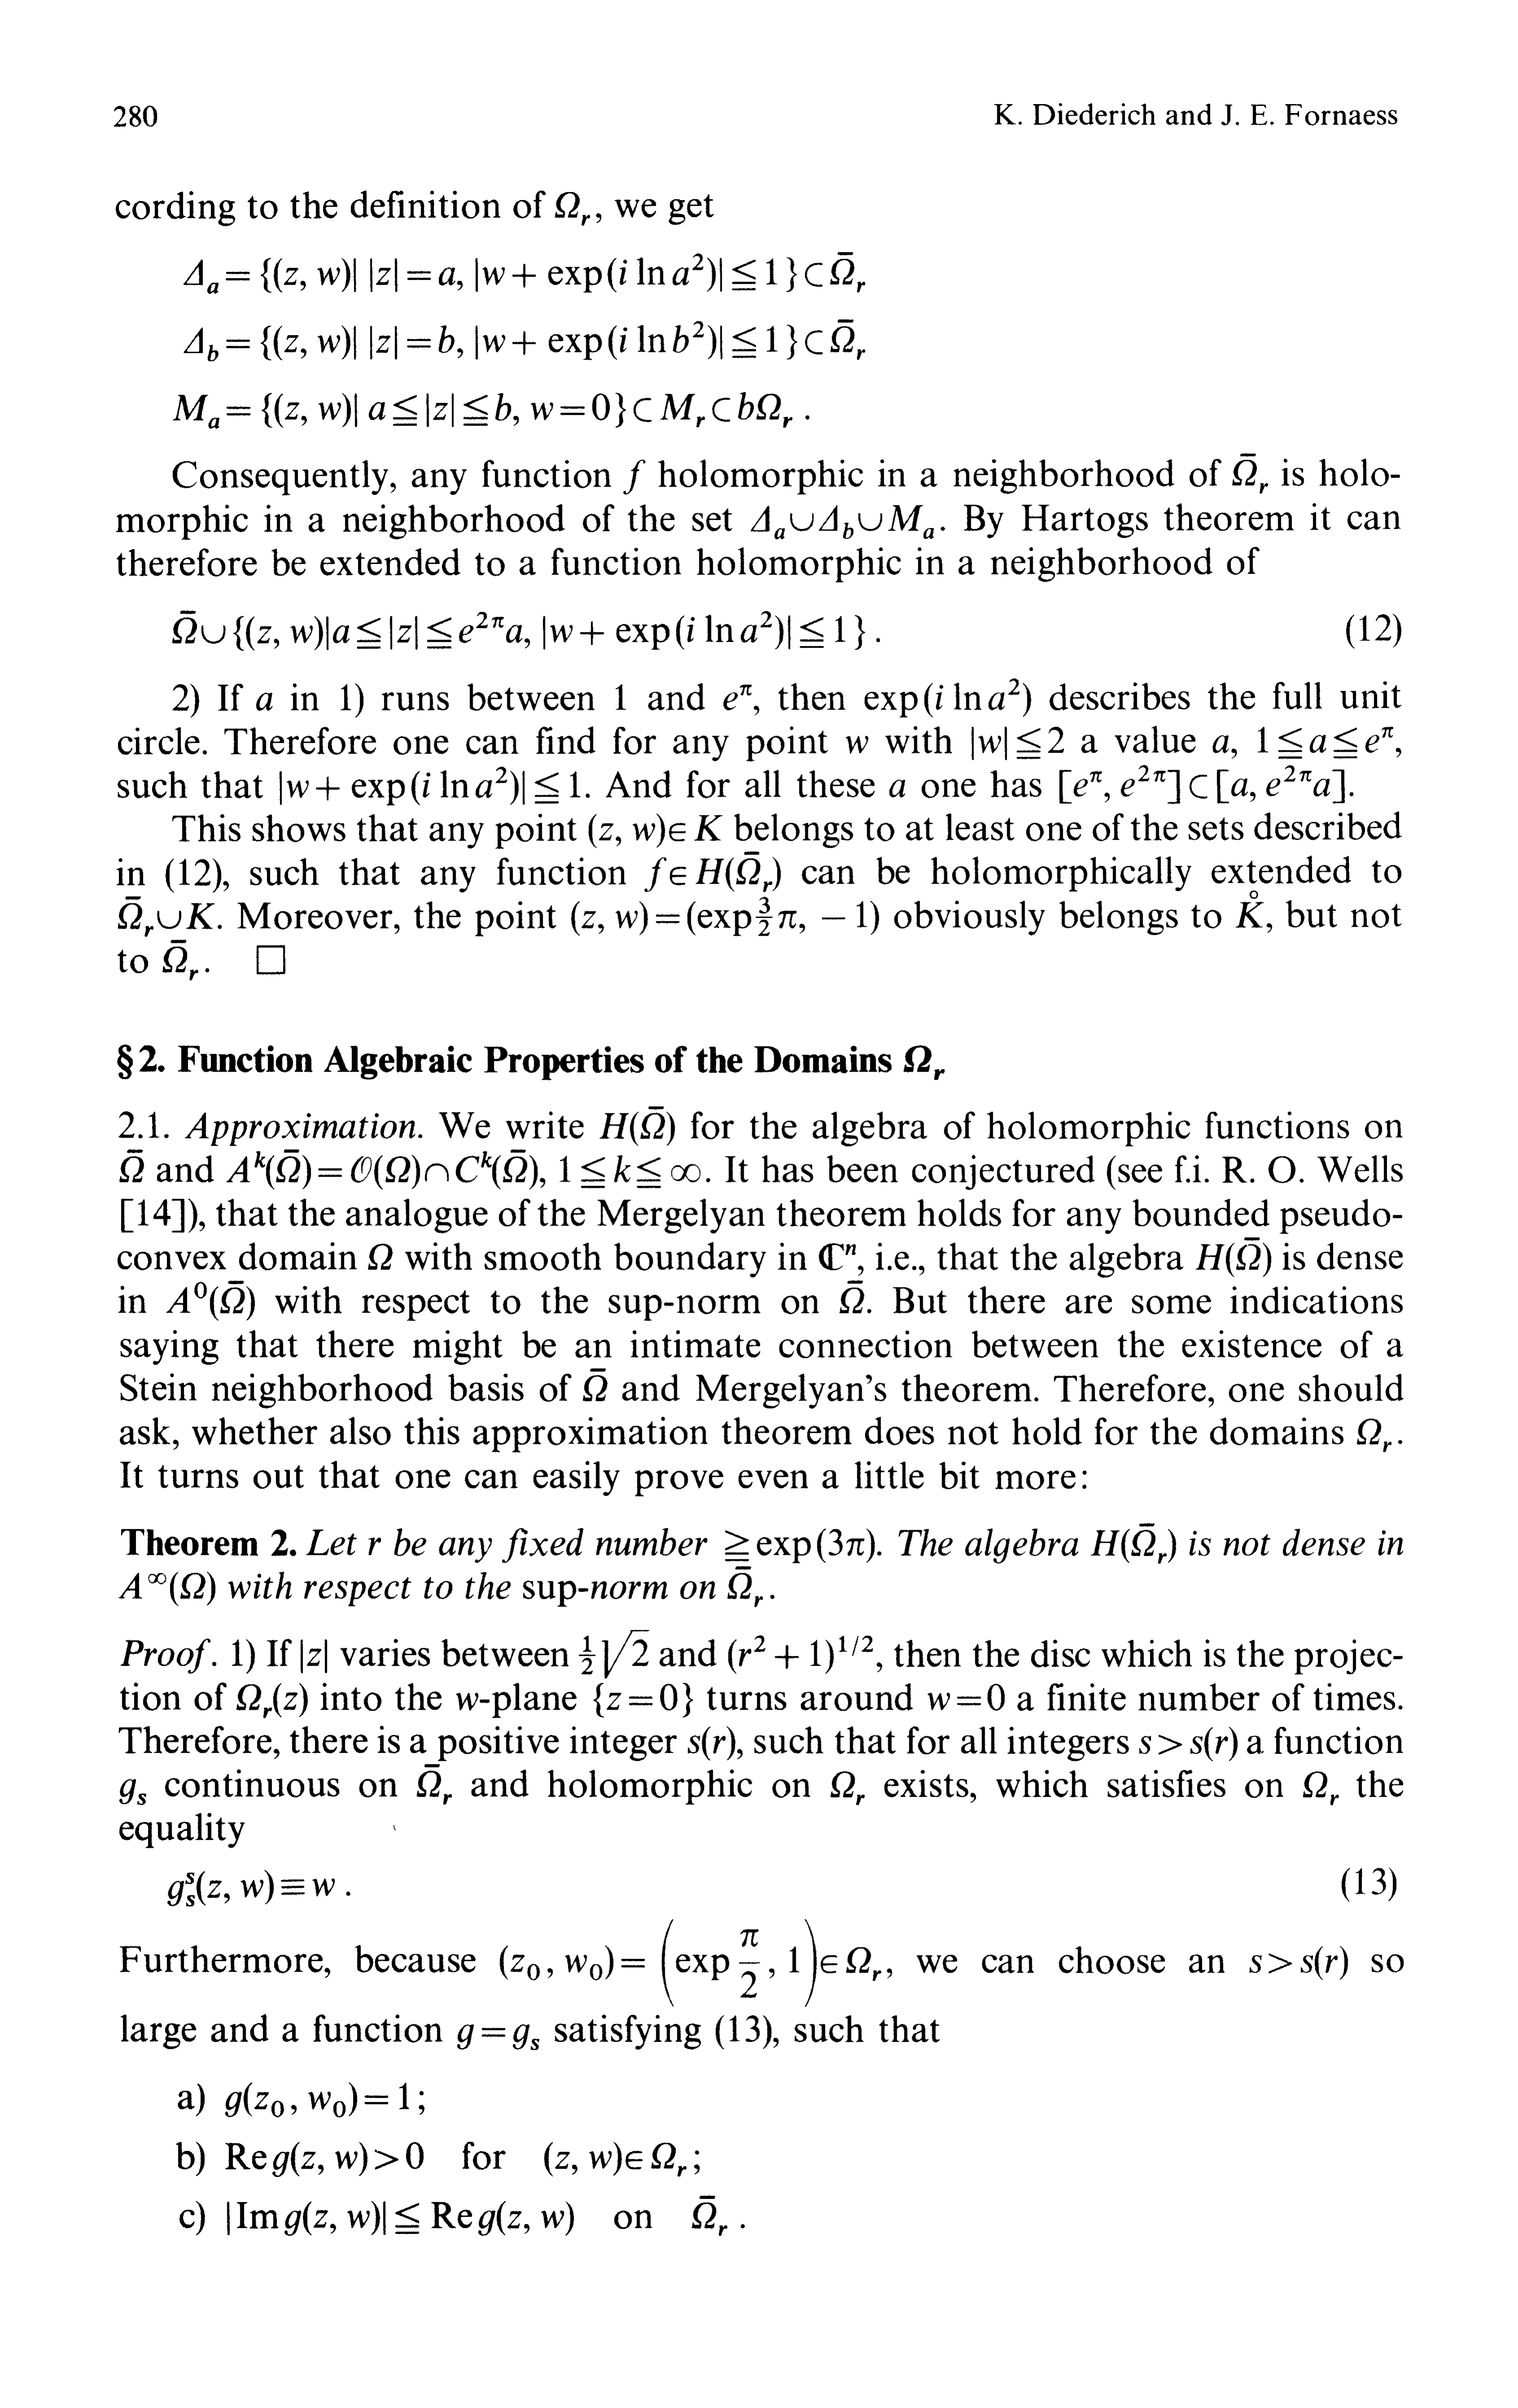maths: (500, 1918, 881, 2006), (184, 252, 866, 294), (171, 610, 866, 651), (184, 320, 866, 360), (173, 392, 792, 428), (227, 1149, 700, 1189), (572, 897, 878, 936), (280, 766, 581, 804), (227, 2202, 574, 2235), (1060, 764, 1345, 803), (226, 2142, 423, 2177), (226, 2083, 409, 2118), (864, 679, 1030, 717), (750, 505, 934, 539), (168, 1869, 334, 1906), (728, 1635, 873, 1674), (644, 852, 780, 892), (726, 1528, 874, 1563), (544, 2142, 686, 2175), (589, 813, 722, 848), (1257, 727, 1392, 759), (117, 897, 220, 936), (166, 1280, 254, 1320), (593, 1682, 693, 1717), (579, 1630, 649, 1679), (1091, 1523, 1175, 1563), (1249, 1946, 1348, 1980), (119, 1572, 215, 1605), (1140, 1728, 1236, 1761), (1196, 1238, 1271, 1277), (600, 1107, 675, 1145), (972, 727, 1063, 759), (236, 1682, 308, 1717), (927, 1684, 1004, 1710), (456, 2025, 539, 2050), (687, 1726, 735, 1759), (1233, 453, 1268, 493), (163, 939, 198, 979), (728, 1567, 762, 1607), (416, 1764, 451, 1805), (693, 2195, 728, 2235), (523, 1581, 575, 1607), (904, 1046, 944, 1079), (554, 192, 589, 226), (1303, 1771, 1338, 1805), (1357, 1418, 1390, 1451), (831, 1771, 864, 1805), (1235, 890, 1264, 927), (818, 1243, 855, 1270), (301, 1640, 327, 1674), (119, 1149, 143, 1182), (839, 1280, 864, 1313), (582, 1369, 607, 1401), (623, 460, 645, 493), (722, 684, 750, 710), (119, 1778, 145, 1805), (367, 1243, 392, 1270), (846, 736, 867, 754), (456, 1693, 477, 1710), (1212, 734, 1229, 752), (255, 692, 271, 710), (616, 684, 626, 710), (890, 780, 904, 797), (369, 1537, 381, 1555)
